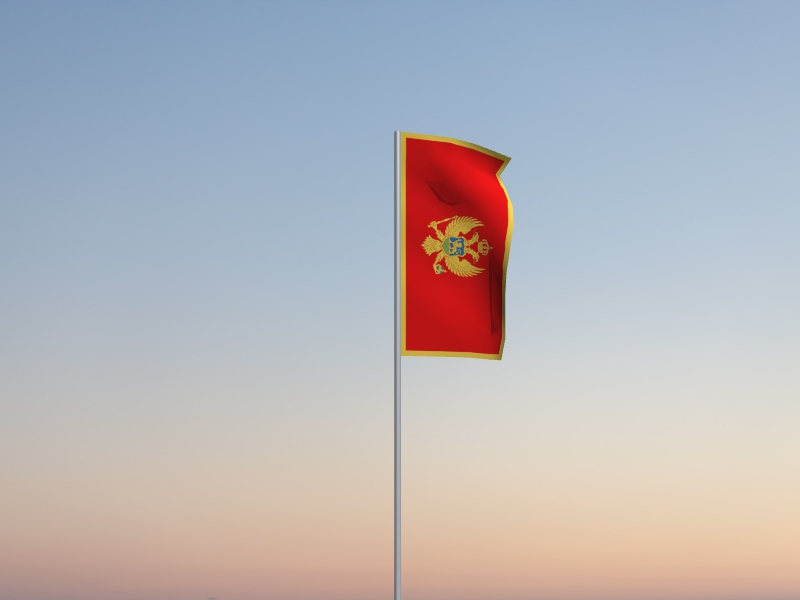me: (401, 132, 516, 362)
